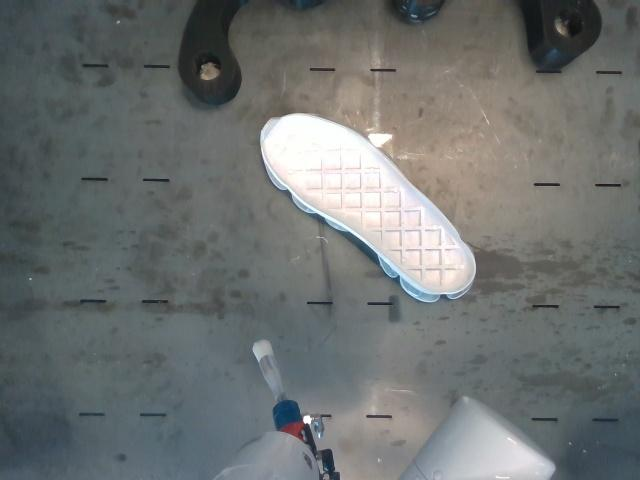shoes: (262, 114, 476, 293)
